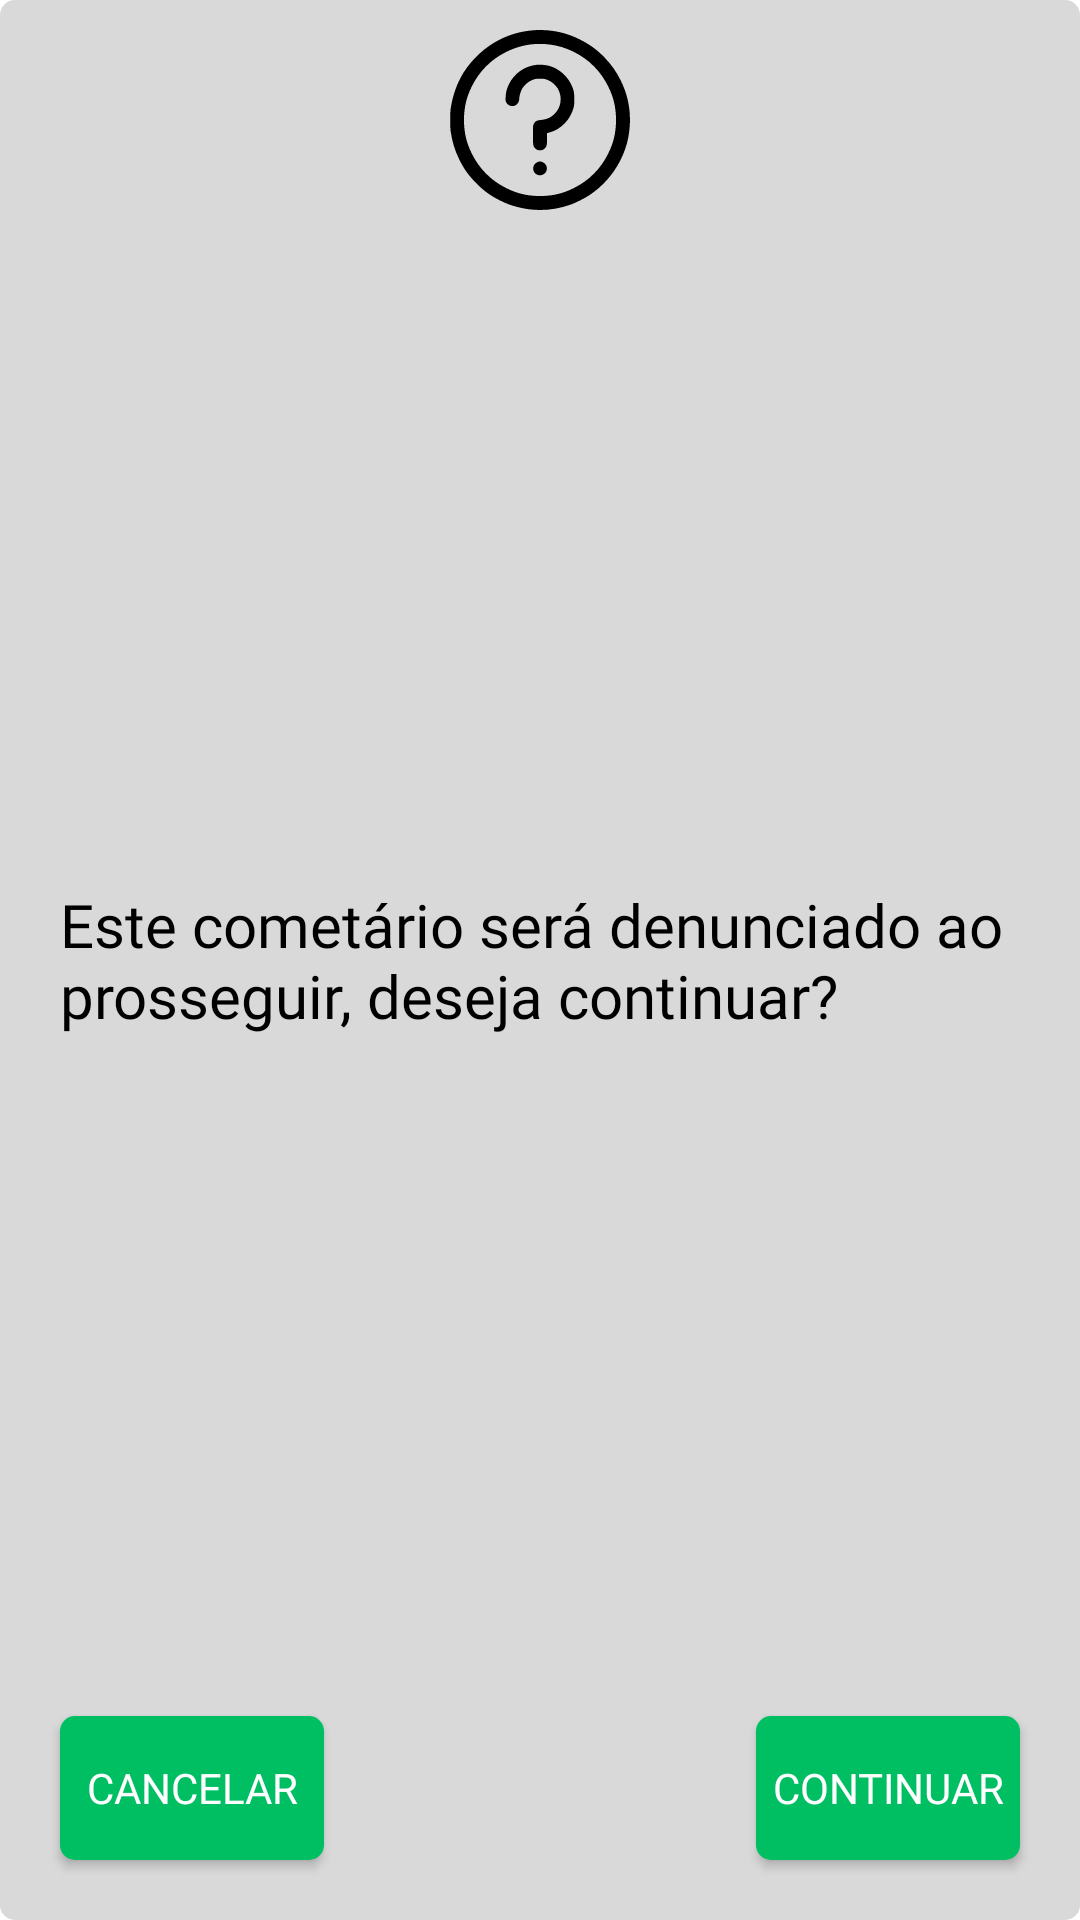

Screen size 1080x1920. Icon name, then its box in pixels as (x1, y1, x2, y2):
sinal de interrogacao: (450, 30, 630, 210)
